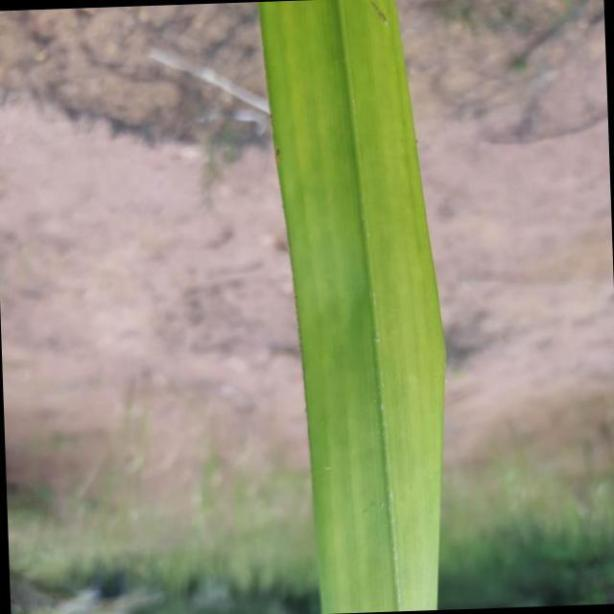nitrogen: (253, 0, 446, 614)
